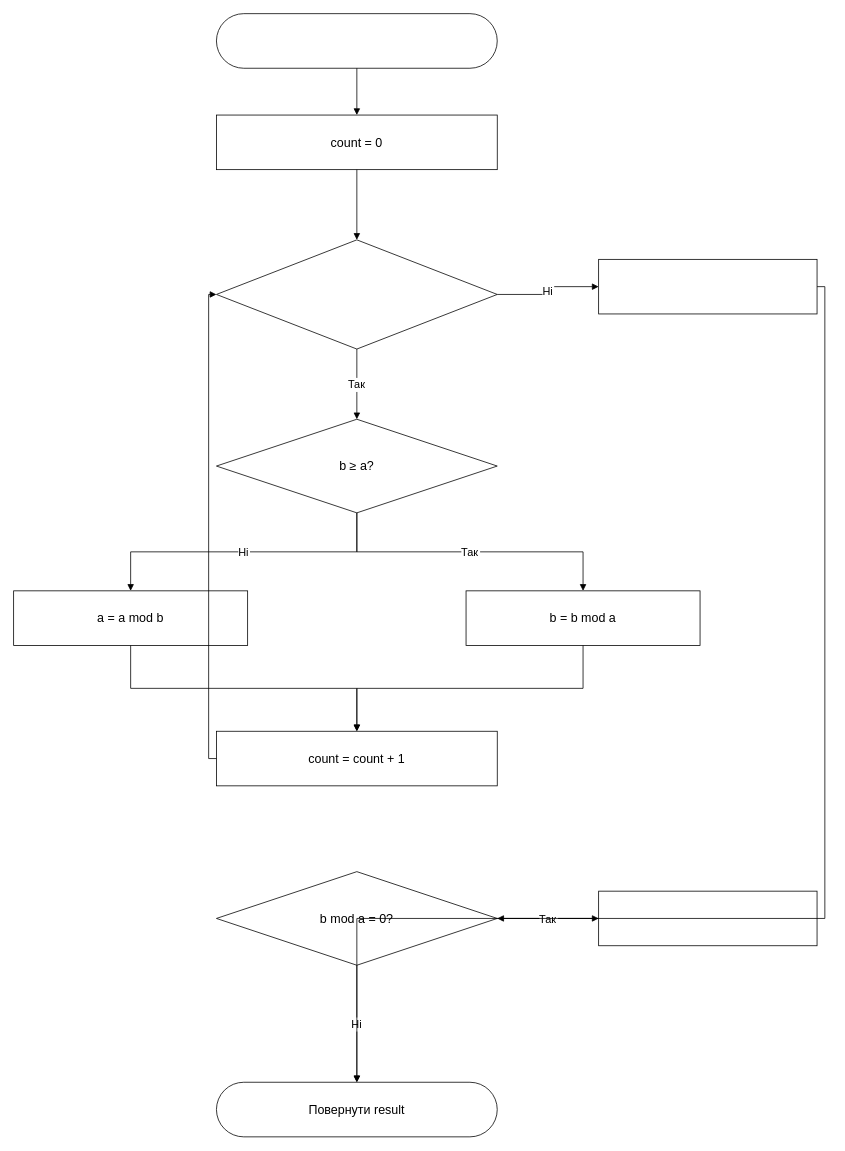
This 845x1151 diagram has some shape labels left out. Here are the shapes that lost their labels. From the top down, the centre of each, then its label:
At pixel 356 40: "getGcdLoop(a, b, count)".
At pixel 356 294: "b mod a ≠ 0 і a mod b ≠ 0?".
At pixel 707 286: "result = b".
At pixel 707 918: "result = a".
